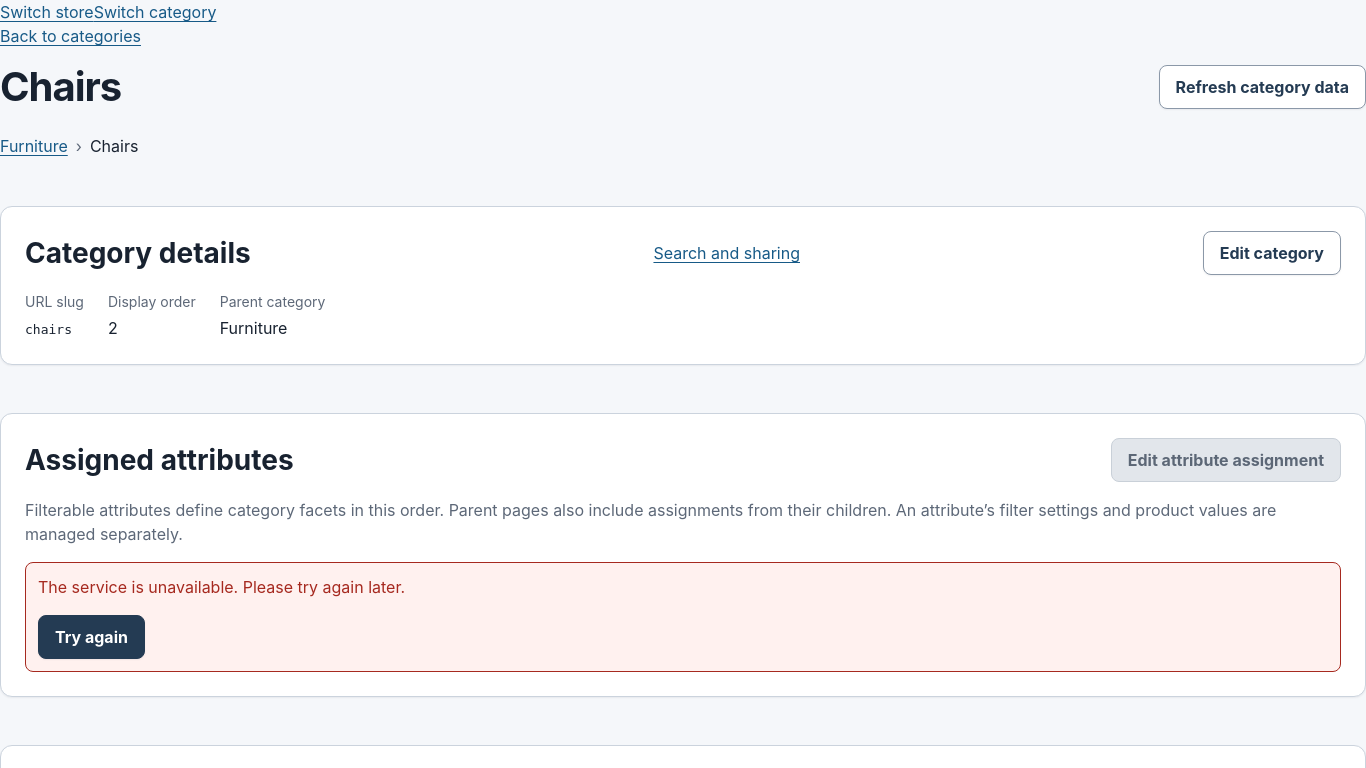
it: focused categories › allows details to edit independently of an attribute read failure
Expected: the message "The service is unavailable. Please try again later. Try again" is shown, [25,562,1341,672]
Expected: the button "Edit attribute assignment" is disabled, [1111,438,1341,482]
Click the button "Edit category" at (1272, 253), box [1203,231,1341,275]
(page scrolled)
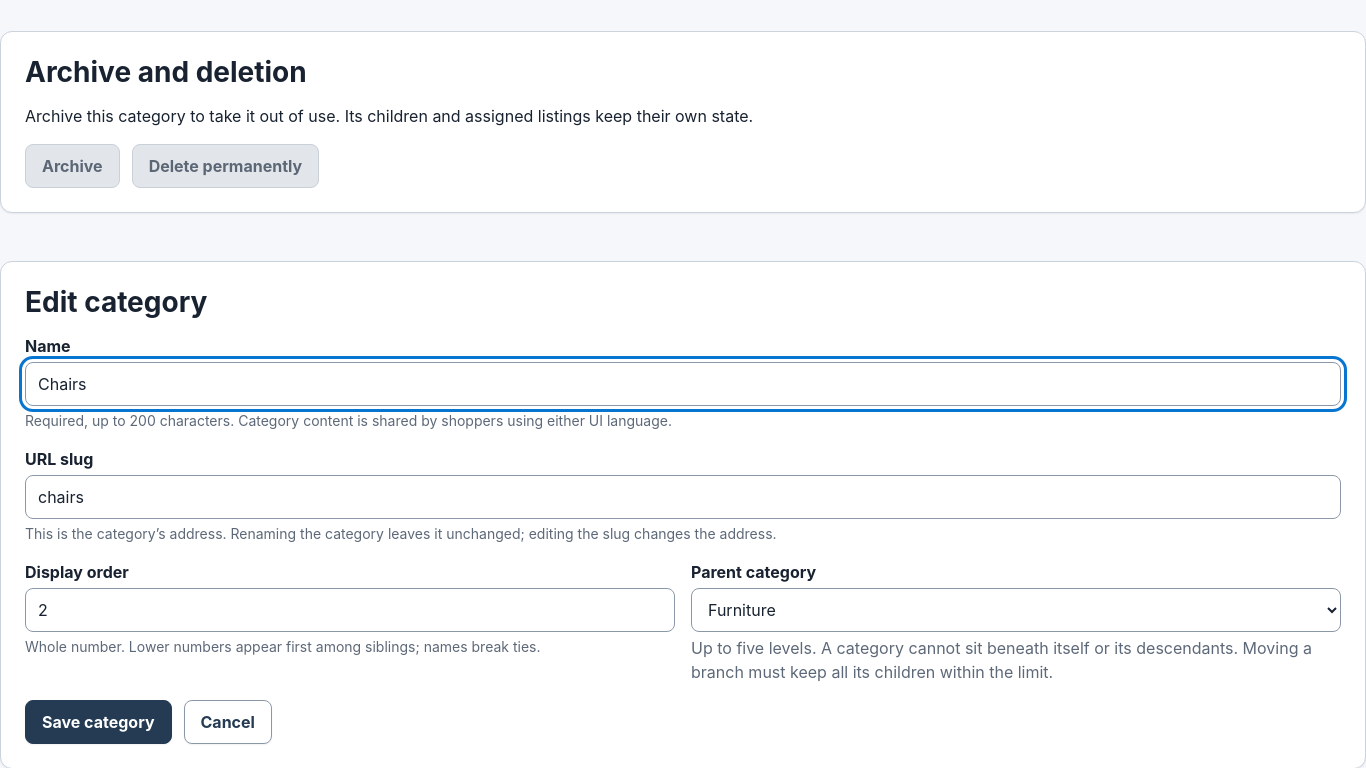
Now the field labelled "Name" is shown, box [25,362,1341,406]
Click the button "Cancel" at (228, 722), box [184,700,272,744]
(page scrolled)
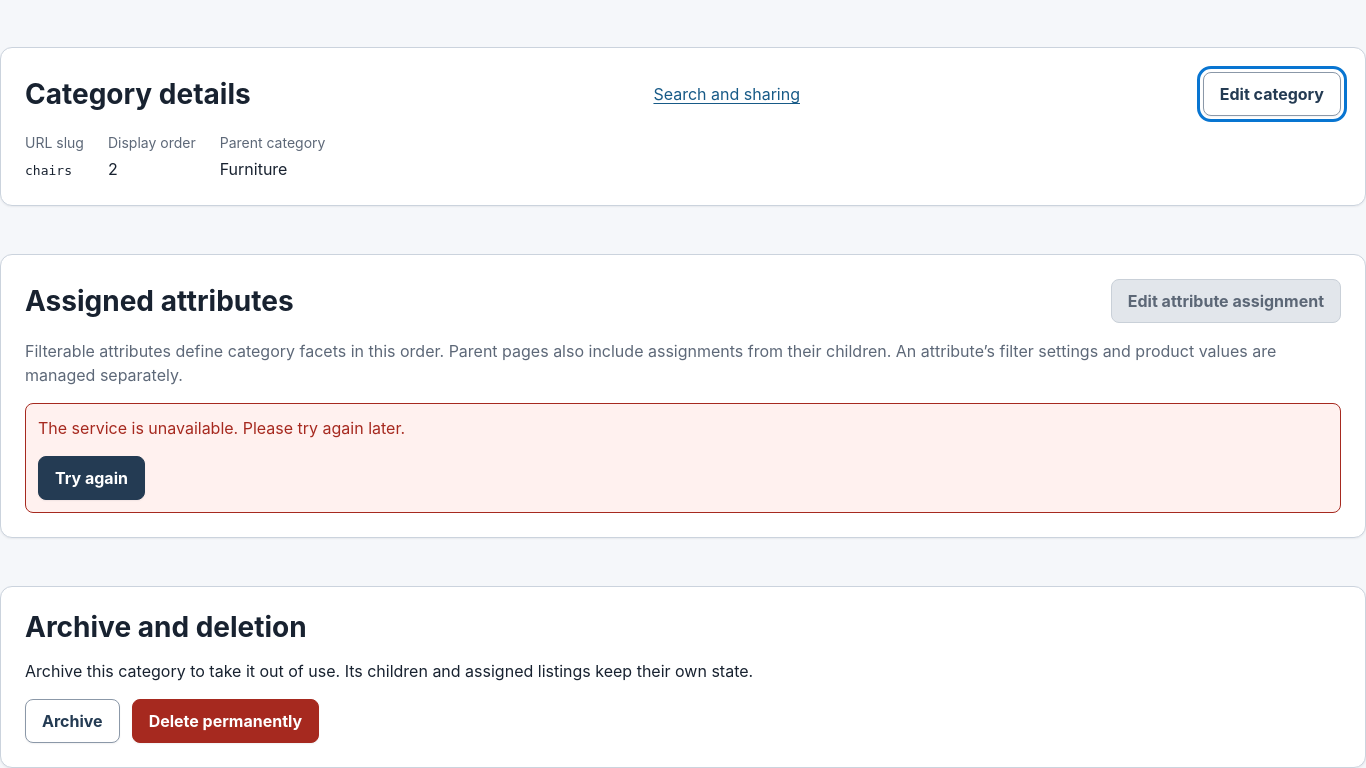
Click the button "Try again" at (92, 478), box [38,456,145,500]
(page scrolled)
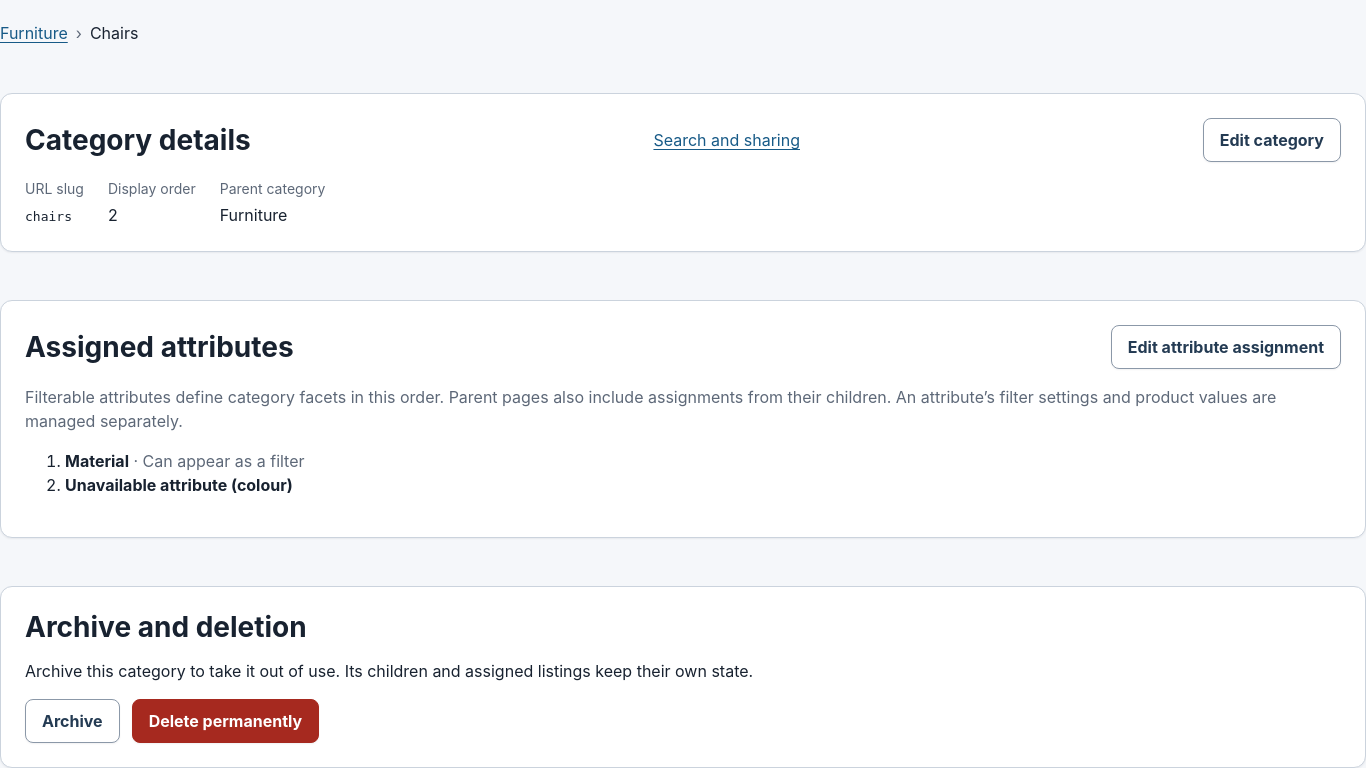
Now the button "Edit attribute assignment" is enabled, box [1111,325,1341,369]
